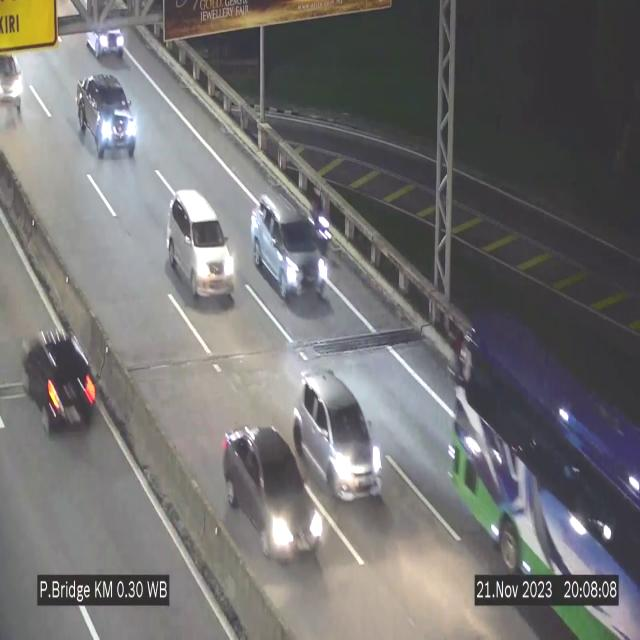Bus: (448, 301, 640, 640)
Car: (219, 425, 321, 564), (298, 363, 390, 505), (15, 330, 109, 437), (251, 191, 327, 310), (168, 191, 236, 304), (81, 77, 141, 163), (0, 51, 36, 121), (79, 21, 127, 64)
Motorcycle: (312, 187, 328, 260)
